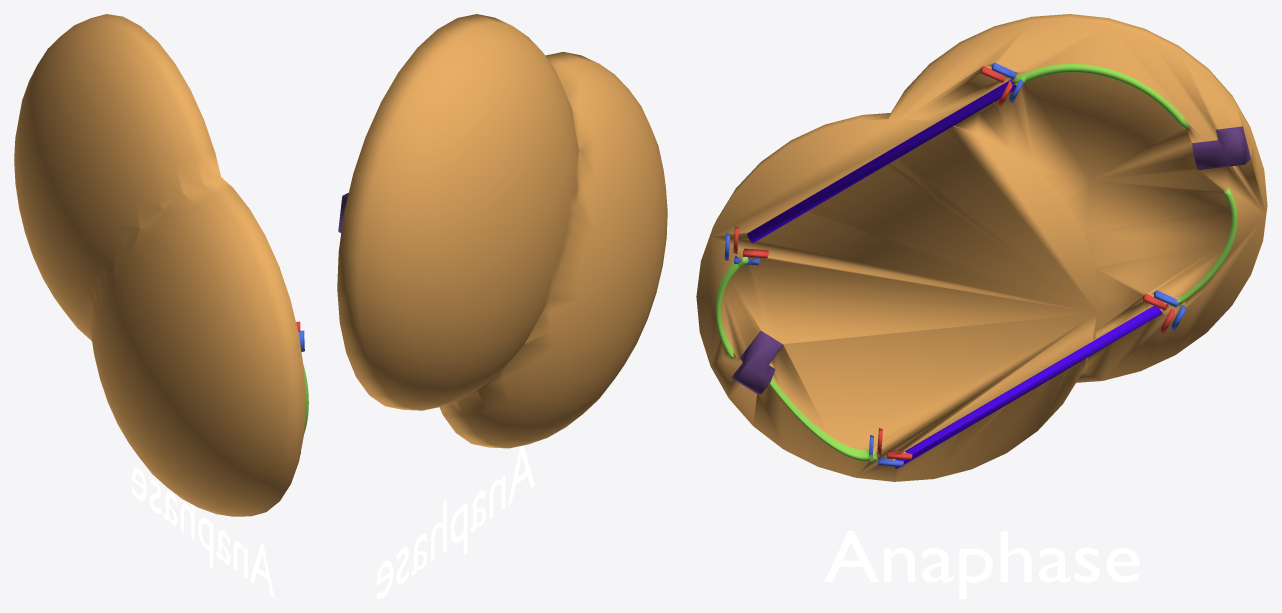
Rendered from Anaphase_1.glb.
3 renders of one model, left to right at view 1: azimuth 30°, elevation 25°; view 2: azimuth 150°, elevation 25°; view 3: azimuth 270°, elevation 25°, orthographic. The views are drawn at different scales.
Parts seen in each view (by area): view 1: obj_0.006, Text; view 2: obj_0.006, Text; view 3: obj_0.006, Text.
Boxes of the visible parts, box(x1,y1,x2,y2) form: obj_0.006: box(14, 14, 308, 516); Text: box(132, 468, 274, 598); obj_0.006: box(337, 14, 667, 448); Text: box(376, 445, 535, 598); obj_0.006: box(696, 14, 1267, 481); Text: box(824, 531, 1139, 598).
Size of the model in its own units: 1.77 by 7.64 by 6.98.
